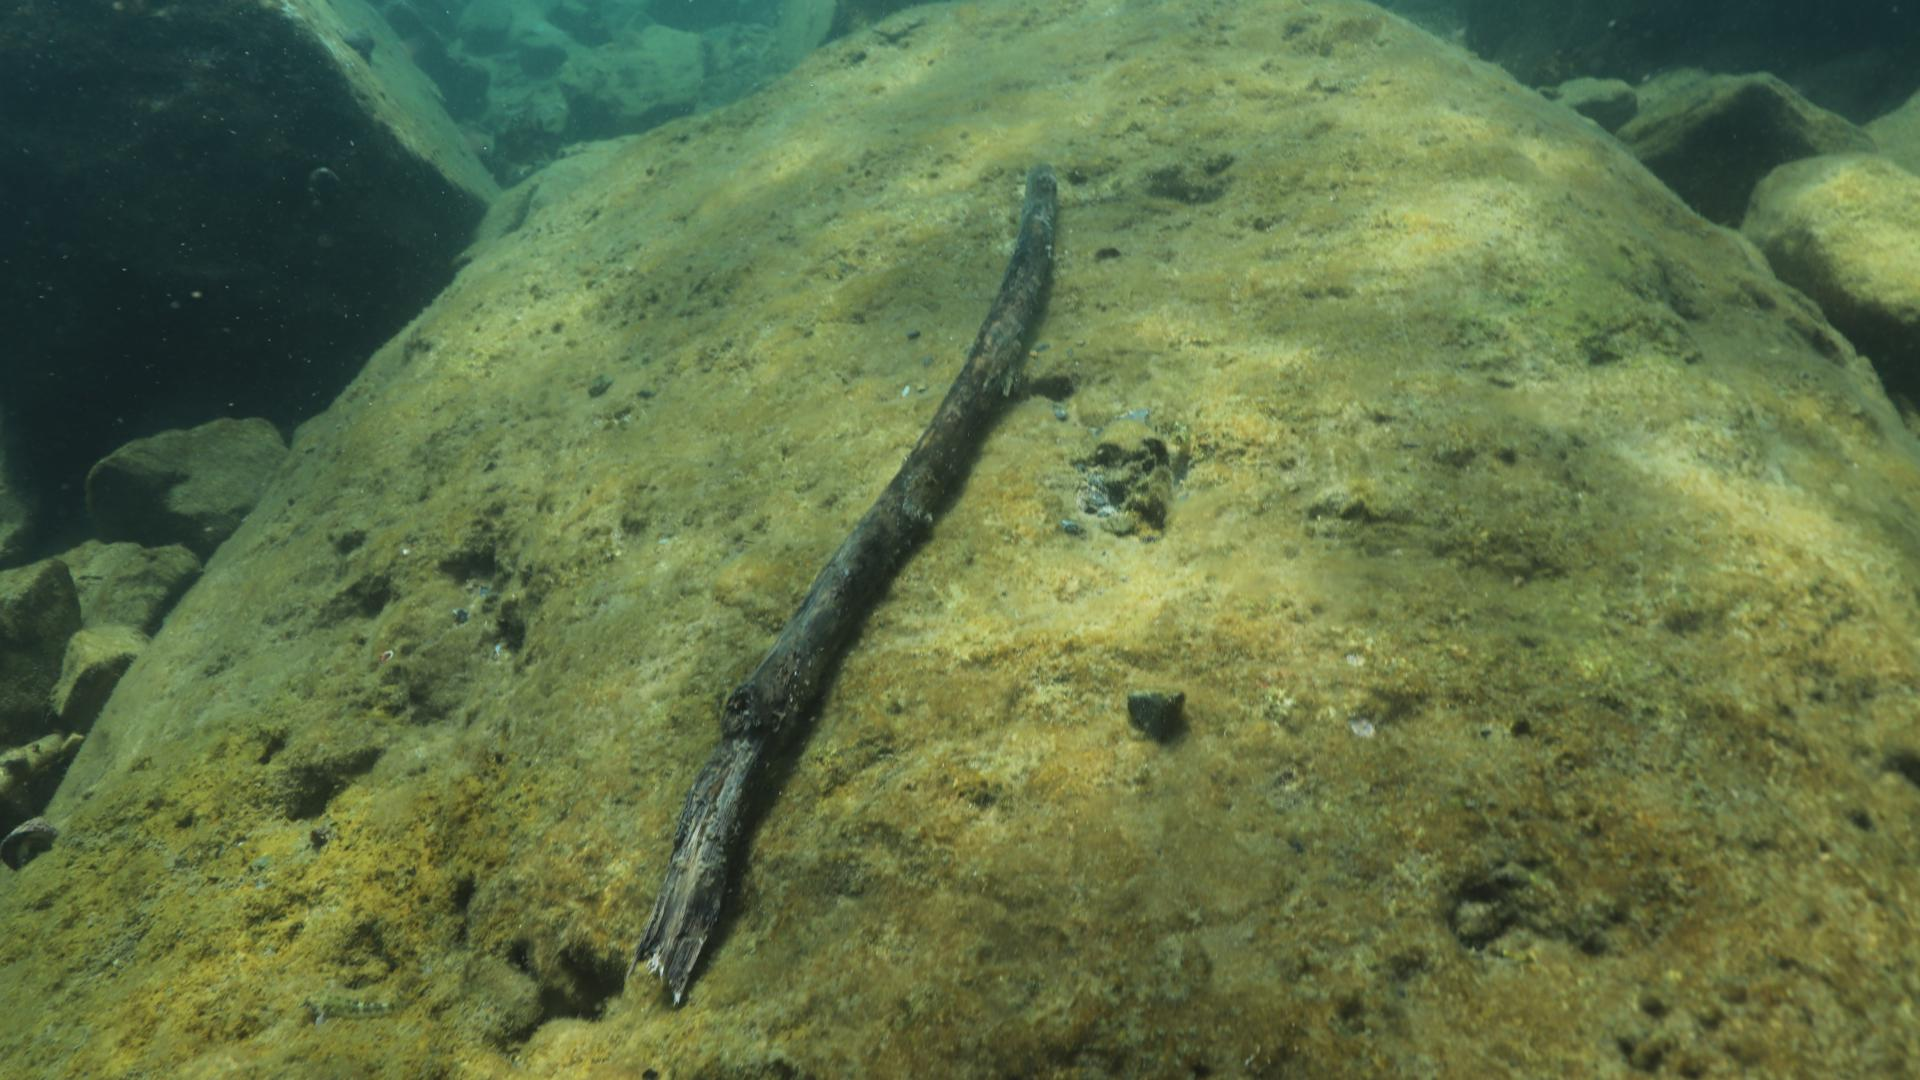wood: (622, 171, 1055, 1006)
